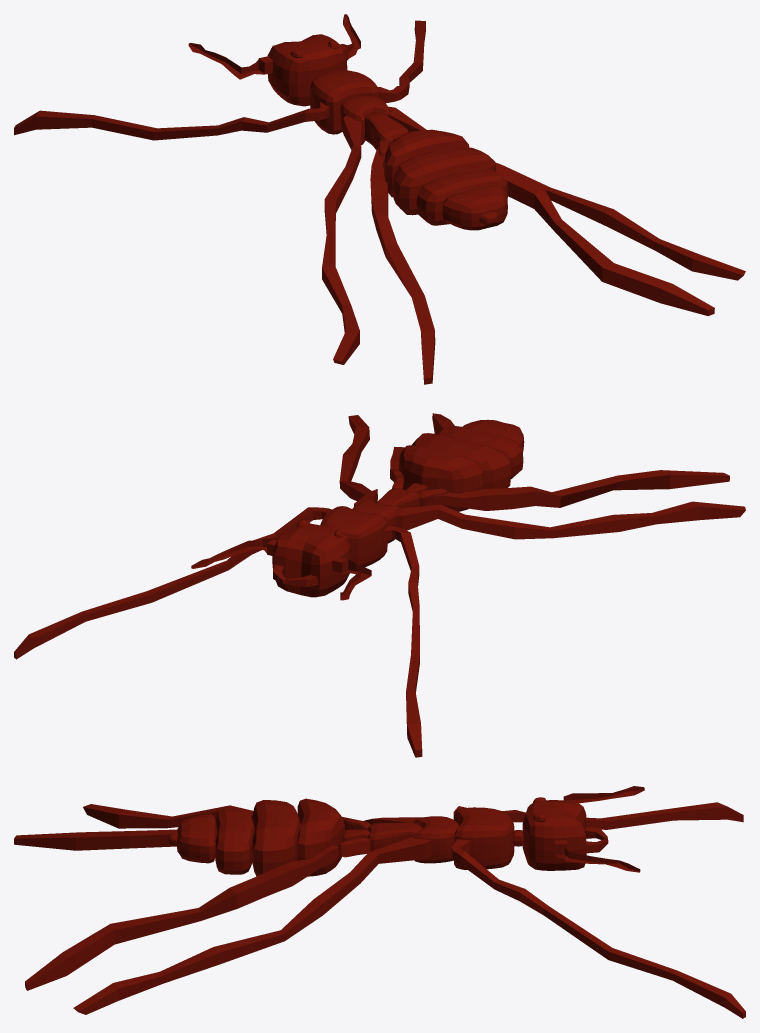
File: ant.glb
3 views of the same model, one above another, from view 1: azimuth 30°, elevation 25°; view 2: azimuth 150°, elevation 25°; view 3: azimuth 270°, elevation 25° (orthographic).
Parts seen in each view (by area): view 1: Cube.024, Cube.021, Cube.022, Cube.023, Cube.025, Cube.013, Cube.008, Cube.001, Cube.009, Cube.010, Cube.007, Cube.020 (+3 smaller); view 2: Cube.023, Cube.025, Cube.013, Cube.020, Cube.007, Cube.021, Cube.001, Cube.008, Cube.022, Cube.009, Cube.014, Cube.015 (+4 smaller); view 3: Cube.022, Cube.024, Cube.020, Cube.013, Cube.008, Cube.001, Cube.025, Cube.007, Cube.009, Cube.021, Cube.023, Cube.010 (+5 smaller).
Part boxes in pixels (box(x1,y1,x2,y2)): Cube.024: box(495, 164, 714, 316); Cube.021: box(14, 102, 329, 140); Cube.022: box(371, 106, 745, 280); Cube.023: box(322, 113, 371, 364); Cube.025: box(370, 147, 435, 384); Cube.013: box(267, 34, 347, 106); Cube.008: box(392, 147, 496, 215); Cube.001: box(310, 70, 378, 134); Cube.009: box(416, 169, 508, 225); Cube.010: box(442, 185, 507, 230); Cube.007: box(384, 129, 469, 197); Cube.020: box(378, 20, 425, 103); Cube.023: box(396, 501, 745, 539); Cube.025: box(433, 470, 729, 510); Cube.013: box(272, 523, 351, 597); Cube.020: box(14, 507, 331, 659); Cube.007: box(399, 445, 483, 511); Cube.021: box(383, 526, 422, 757); Cube.001: box(320, 506, 387, 567); Cube.008: box(412, 433, 511, 488); Cube.022: box(339, 415, 377, 505); Cube.009: box(438, 425, 523, 478); Cube.014: box(191, 538, 277, 568); Cube.015: box(332, 556, 371, 600); Cube.022: box(73, 837, 431, 1014); Cube.024: box(25, 845, 339, 990); Cube.020: box(451, 839, 745, 1018); Cube.013: box(522, 800, 586, 870); Cube.008: box(252, 800, 300, 876); Cube.001: box(454, 807, 514, 869); Cube.025: box(14, 820, 354, 850); Cube.007: box(297, 798, 345, 876); Cube.009: box(215, 807, 254, 874); Cube.021: box(453, 802, 743, 829); Cube.023: box(83, 804, 422, 828); Cube.010: box(177, 814, 216, 863).
Size of the model in its own units: 4.77 by 1.27 by 7.27.
